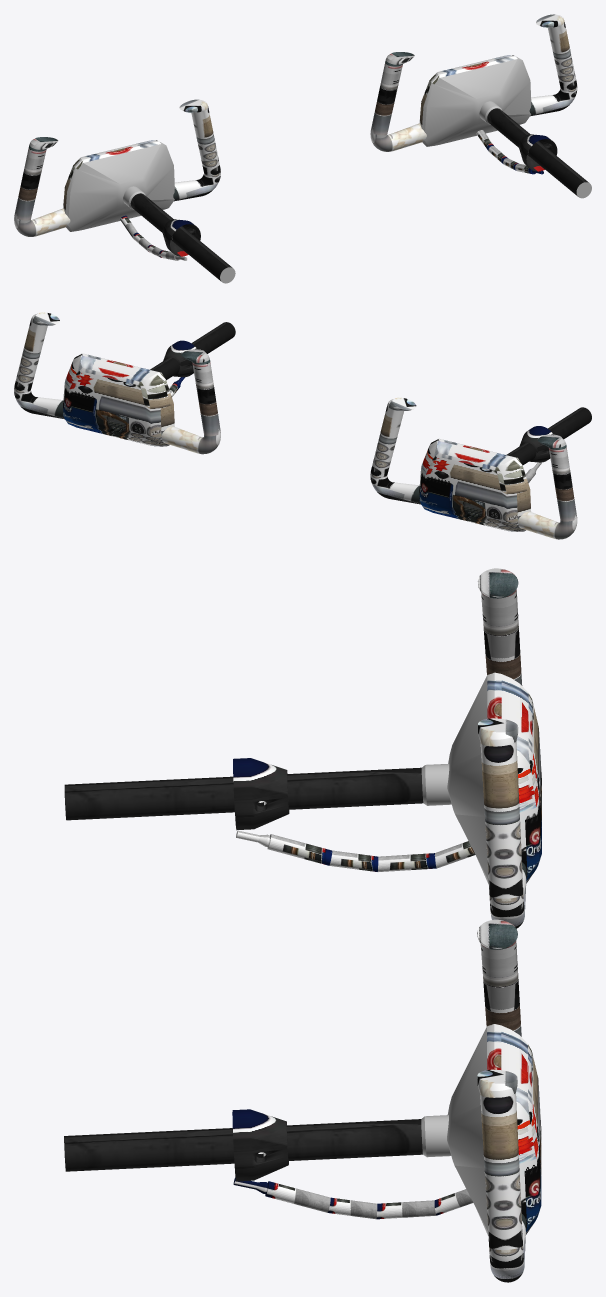
Rendered from interior.gltf.
3 views of the same model, one above another, from view 1: azimuth 30°, elevation 25°; view 2: azimuth 150°, elevation 25°; view 3: azimuth 270°, elevation 25° (orthographic). The views are drawn at different scales.
Parts seen in each view (by area): view 1: Interior; view 2: Interior; view 3: Interior.
Boxes of the visible parts, x1,y1,x2,y2 form: Interior: [14, 14, 591, 283]; Interior: [14, 312, 591, 539]; Interior: [64, 568, 541, 1282].
Size of the model in its own units: 0.7245 by 0.1358 by 0.2672.
Materials: 2 (2 with a texture image).
